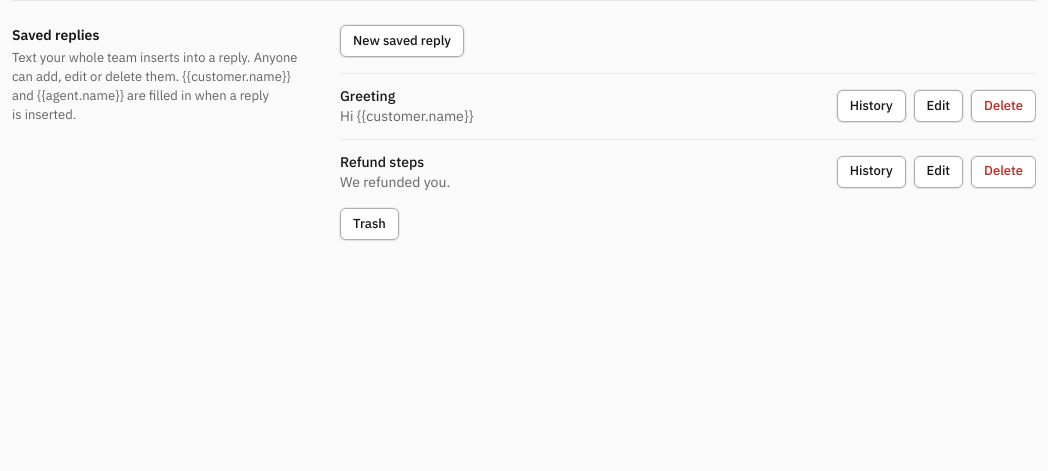
Test: the add form stays closed until New saved reply, and Cancel closes it again
Expected: the field labelled "Title" is not shown
Click the button "New saved reply": point(402, 41) [340,25,464,57]
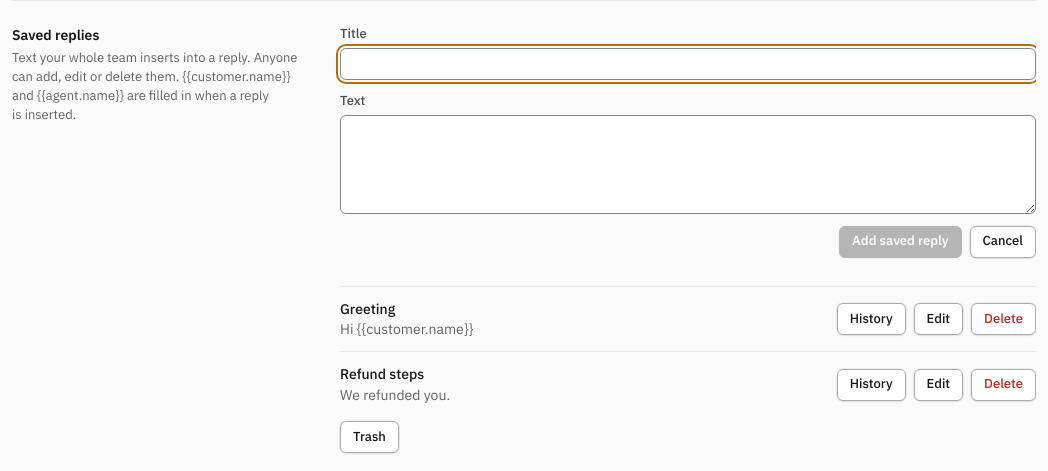
Now the button "New saved reply" is gone
Click the button "Cancel": point(1003, 242) [970,226,1036,258]
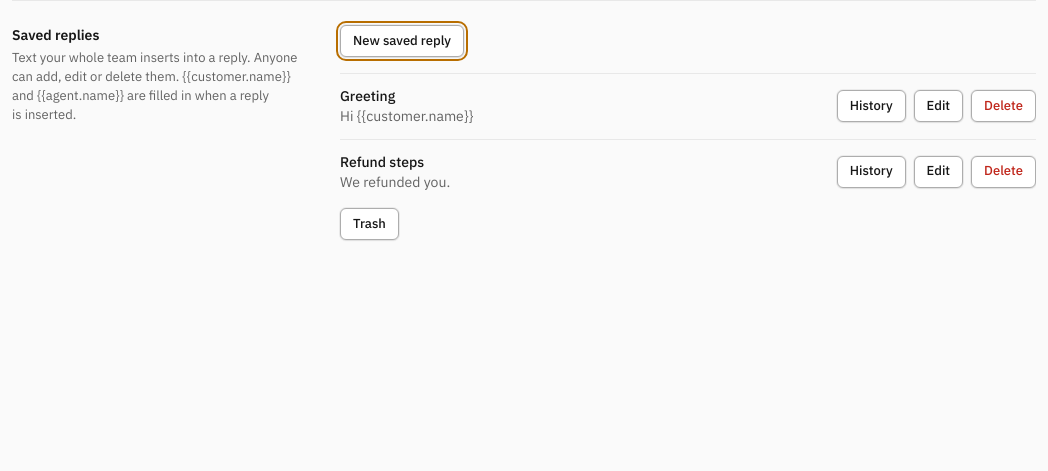
Now the text labelled "Title" is gone
